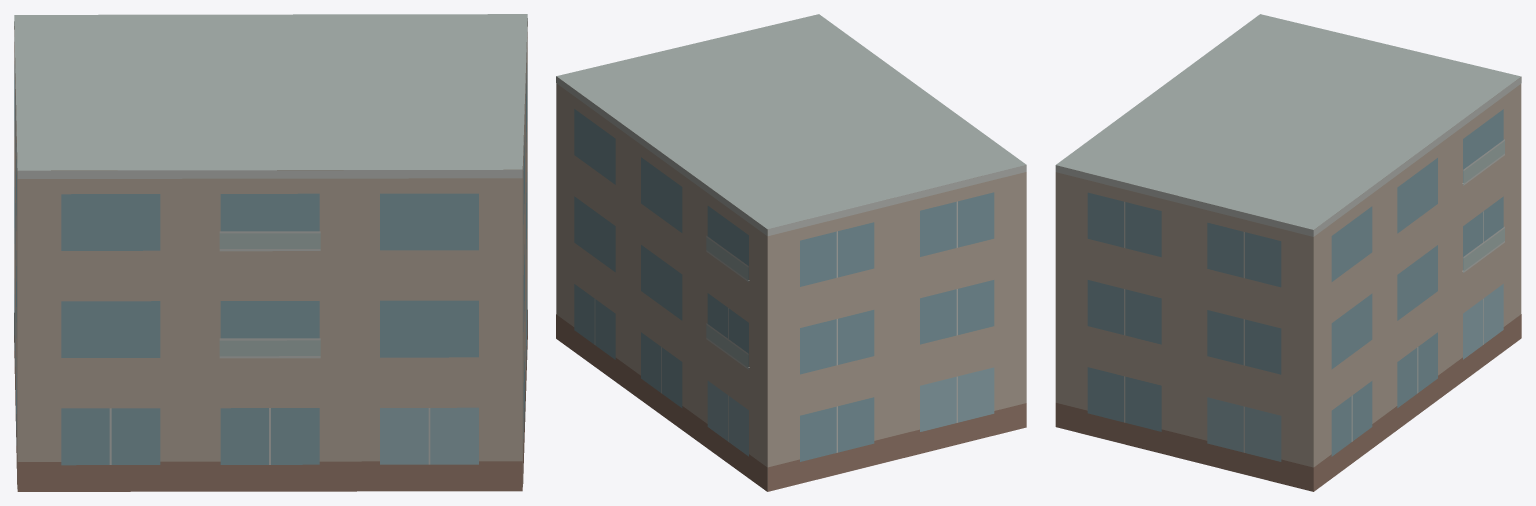
The model's file is survey-upis-32760646.glb.
3 views of the same model, side by side, from view 1: azimuth 30°, elevation 25°; view 2: azimuth 150°, elevation 25°; view 3: azimuth 270°, elevation 25° (orthographic). The views are drawn at different scales.
Visible parts, largest first — view 1: survey-upis-32760646.tmp; view 2: survey-upis-32760646.tmp; view 3: survey-upis-32760646.tmp.
Boxes of the visible parts, bbox=[...] form: survey-upis-32760646.tmp: bbox=[14, 14, 527, 491]; survey-upis-32760646.tmp: bbox=[556, 14, 1026, 491]; survey-upis-32760646.tmp: bbox=[1055, 14, 1521, 491].
Bounding box in the file's own units: 16.19 × 9.15 × 14.76.
